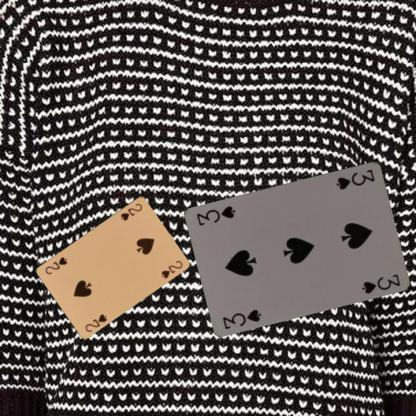2s: (118, 200, 143, 222), (83, 311, 108, 333)
3s: (220, 306, 263, 331), (334, 166, 376, 191)
